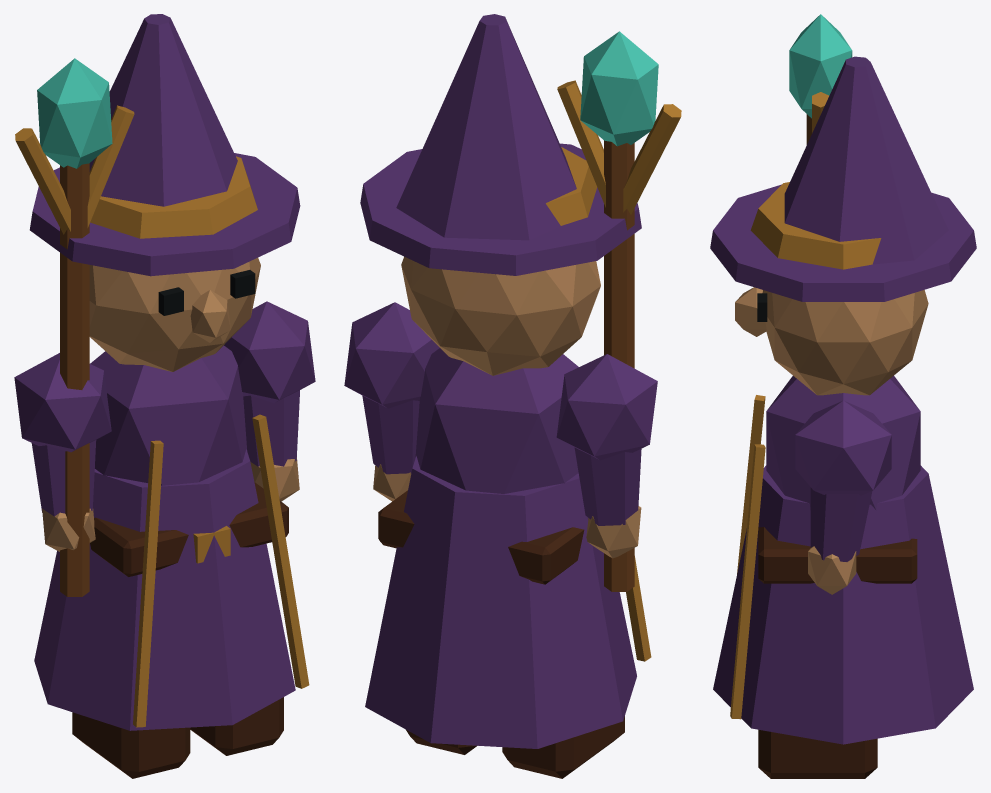
The model's file is Mage.fbx.
The picture shows the model from 3 angles, left to right: view 1: azimuth 30°, elevation 25°; view 2: azimuth 150°, elevation 25°; view 3: azimuth 270°, elevation 25°; orthographic projection. The views are drawn at different scales.
Parts seen in each view (by area): view 1: Visual.002_Mesh, Head.002_Mesh, Grip.002_Mesh, RightArm.002_Mesh, LeftArm.002_Mesh, RightLeg.002_Mesh, LeftLeg.002_Mesh; view 2: Visual.002_Mesh, Head.002_Mesh, Grip.002_Mesh, RightArm.002_Mesh, LeftArm.002_Mesh, RightLeg.002_Mesh; view 3: Visual.002_Mesh, Head.002_Mesh, LeftArm.002_Mesh, LeftLeg.002_Mesh, Grip.002_Mesh.
Part boxes in pixels (x1,y1,x2,y2): Visual.002_Mesh: (34, 345, 309, 730); Head.002_Mesh: (29, 14, 300, 371); Grip.002_Mesh: (15, 58, 134, 596); RightArm.002_Mesh: (14, 353, 111, 551); LeftArm.002_Mesh: (224, 301, 315, 501); RightLeg.002_Mesh: (72, 712, 190, 778); LeftLeg.002_Mesh: (190, 697, 283, 755); Visual.002_Mesh: (365, 348, 651, 748); Head.002_Mesh: (360, 14, 641, 375); Grip.002_Mesh: (557, 31, 681, 591); RightArm.002_Mesh: (556, 354, 657, 558); LeftArm.002_Mesh: (344, 302, 439, 501); RightLeg.002_Mesh: (502, 716, 624, 778); Visual.002_Mesh: (713, 376, 973, 744); Head.002_Mesh: (710, 56, 976, 395); LeftArm.002_Mesh: (795, 400, 891, 594); LeftLeg.002_Mesh: (758, 729, 877, 778); Grip.002_Mesh: (789, 14, 852, 144).
Size of the model in its own units: 0.5967 by 1.33 by 0.47.
